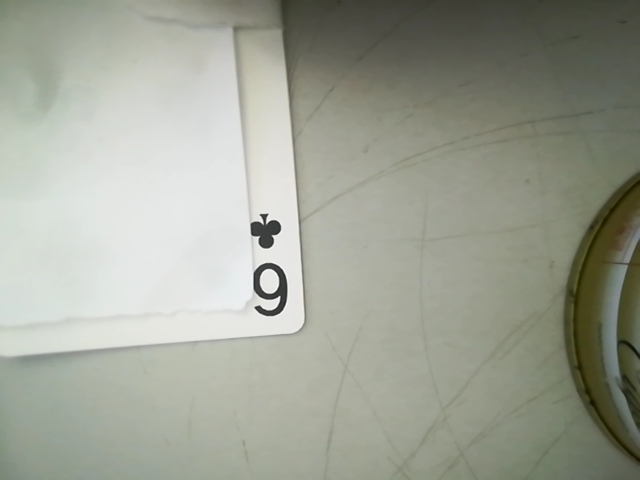mh 6: (234, 206, 299, 323)
